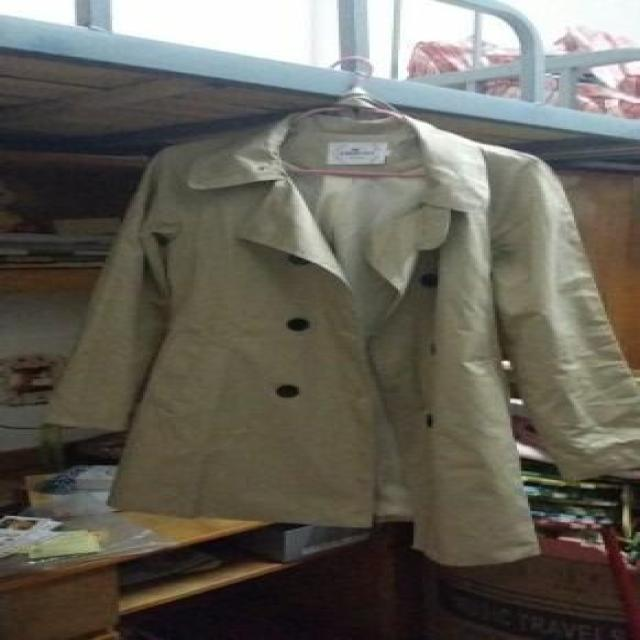long-sleeve-outwear: (130, 108, 640, 569)
